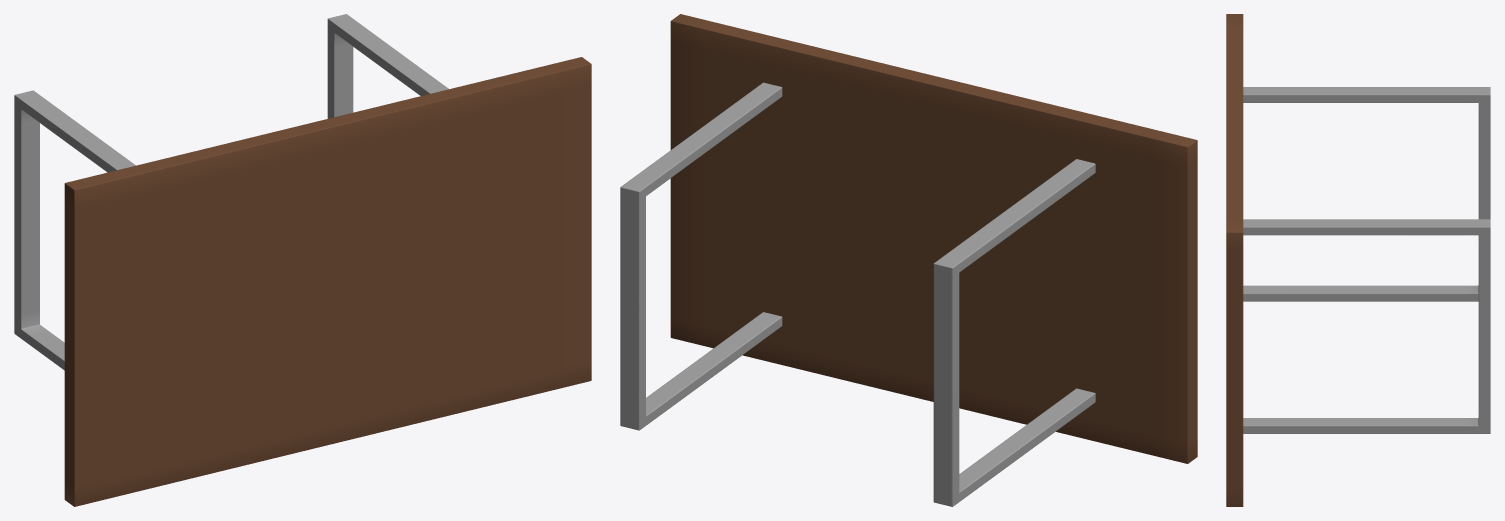
The model's file is table2.obj.
3 renders of one model, left to right at view 1: azimuth 30°, elevation 25°; view 2: azimuth 150°, elevation 25°; view 3: azimuth 270°, elevation 25°, orthographic. The views are drawn at different scales.
Visible parts, largest first — view 1: Table; view 2: Table; view 3: Table.
Part boxes in pixels (<box>): Table: <box>14,14,591,506</box>; Table: <box>620,14,1197,506</box>; Table: <box>1226,14,1490,506</box>.
Bounding box in the file's own units: 1.7 × 0.9952 × 0.8679.
